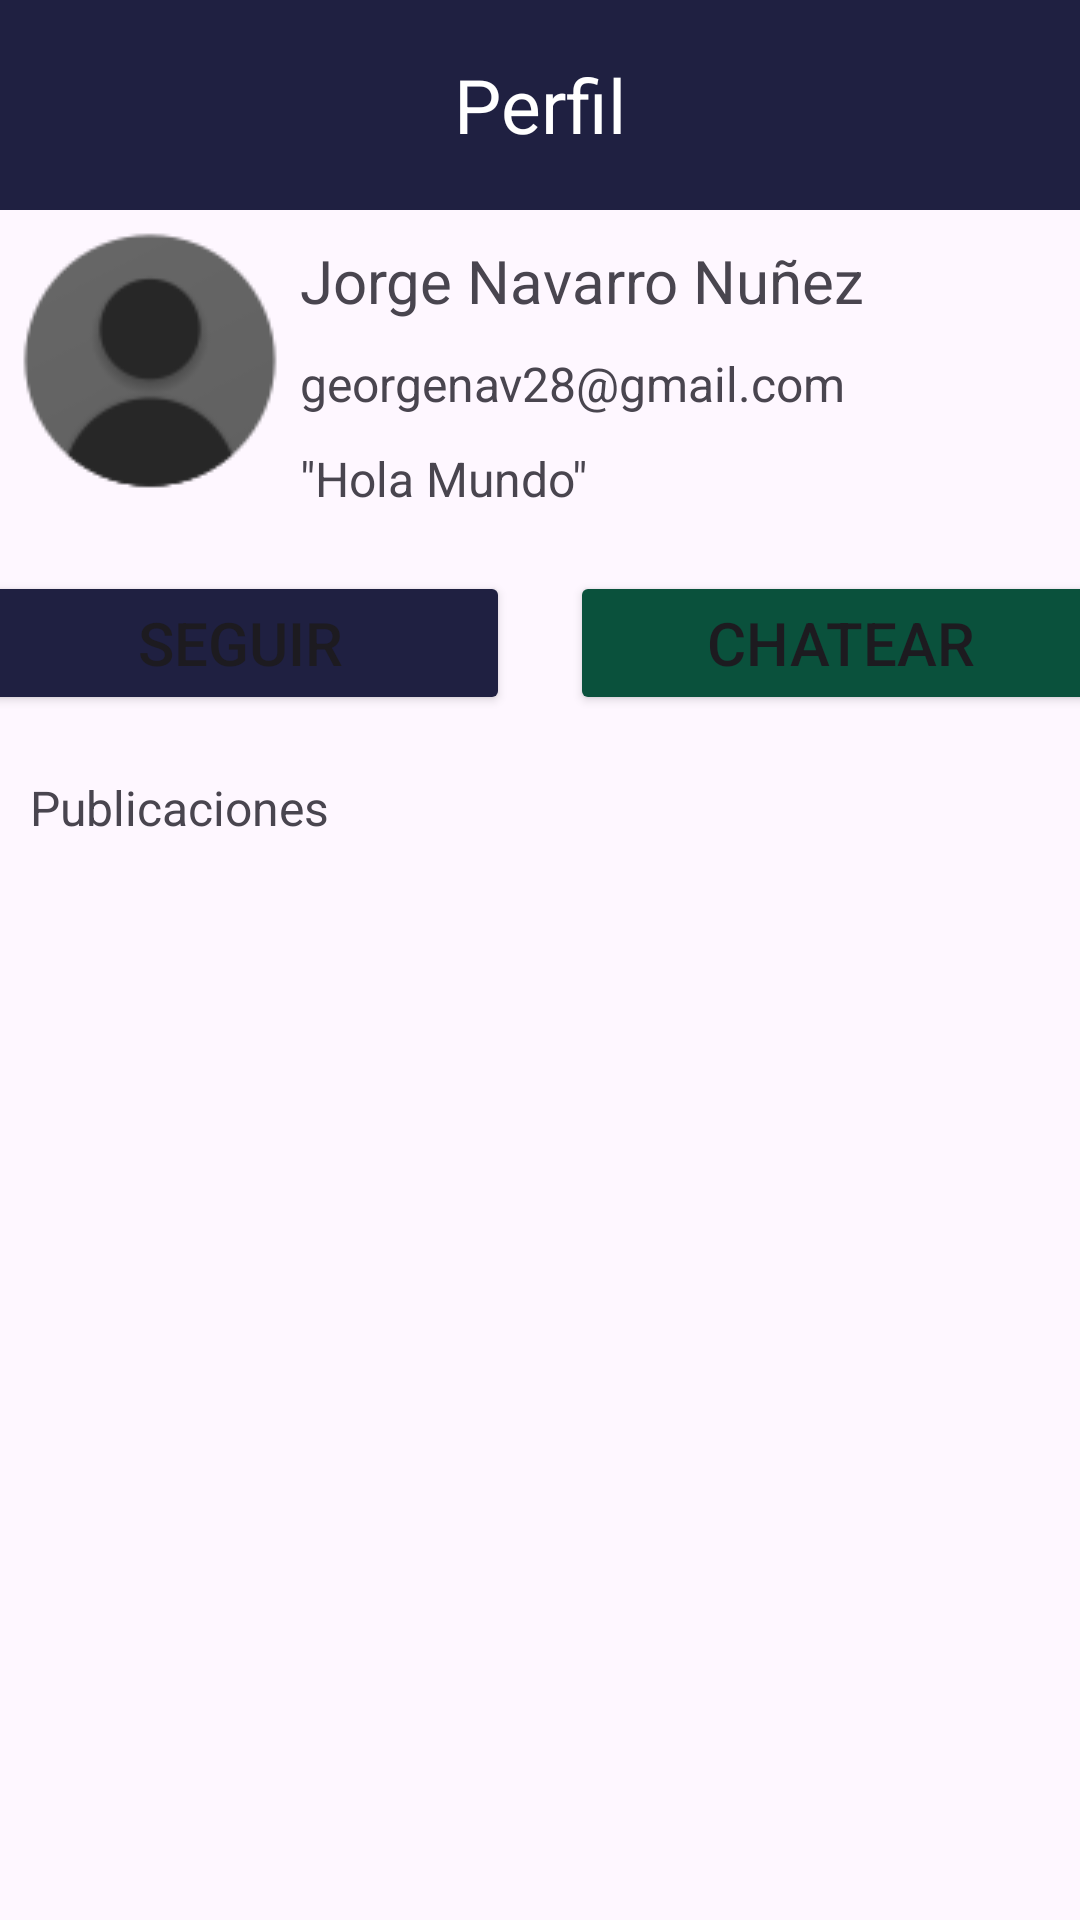

Locate icon controls on the screen. Image size 1080*1920, boxes as (x1, y1, x2, y2).
perfil: (23, 233, 277, 488)
